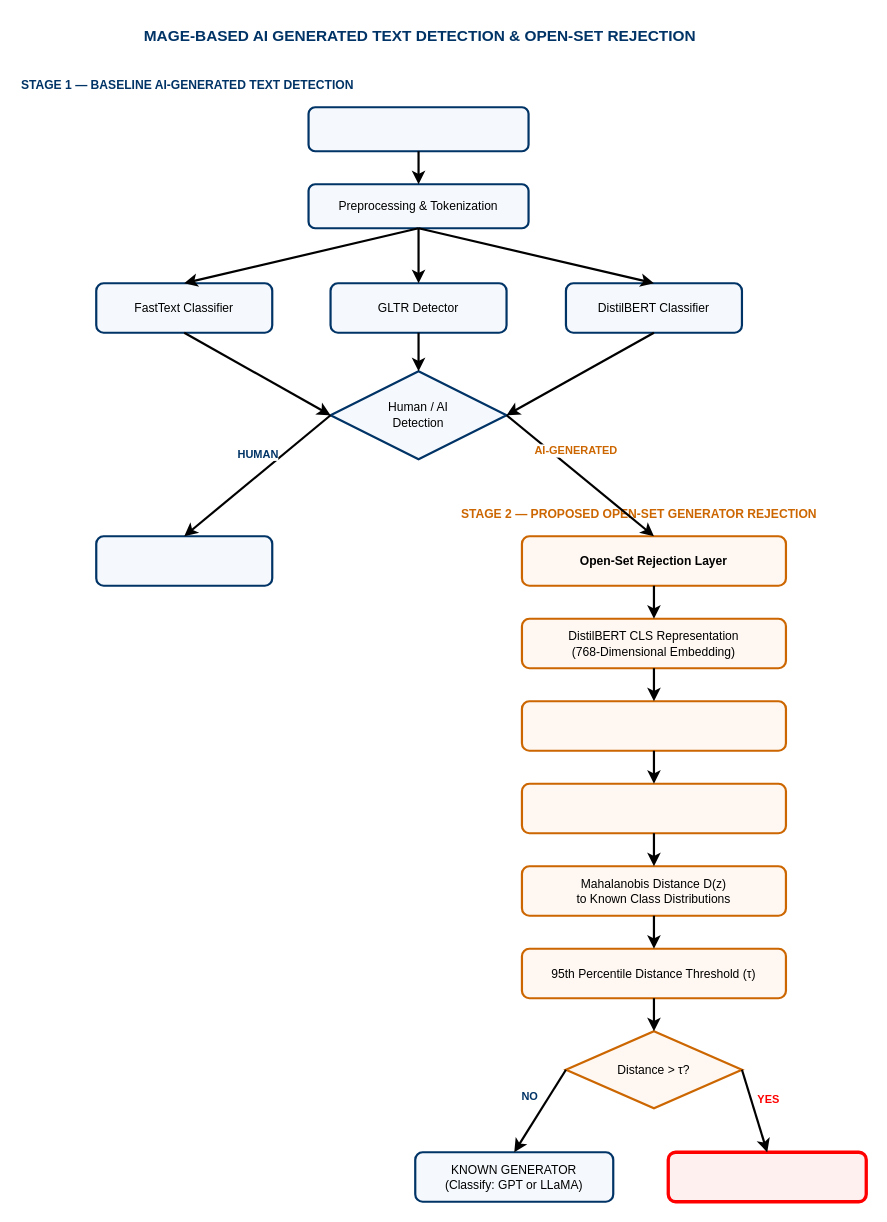
Some shapes in this 887 by 1222 pixel diagram are drawn without their labels. The centre of each missing label's shape, as x and y in pixels:
"Centroid + Covariance Estimation" belongs at (653,808).
"Human Output" belongs at (184,560).
"Input Text" belongs at (418,129).
"Known Generator Distributions (GPT / LLaMA / OPT based on split)" belongs at (653,725).
"UNKNOWN / POSSIBLY UNSEEN GENERATOR" belongs at (766,1176).
